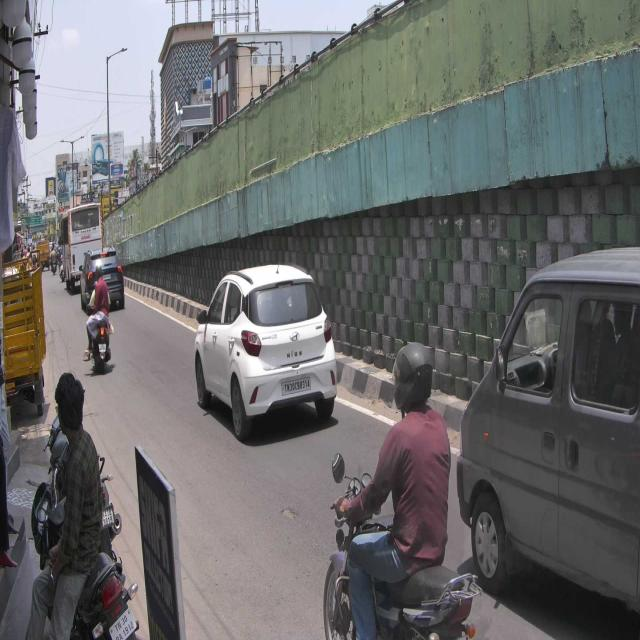single_rider: (322, 341, 485, 640)
